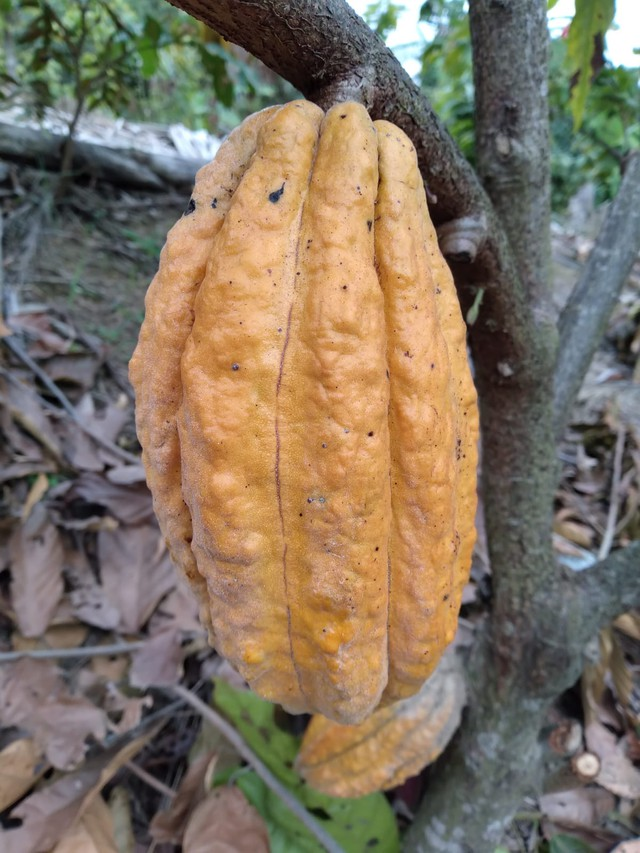Health: (125, 96, 487, 723)
